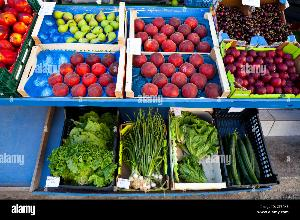cucumber: (219, 115, 273, 190)
peach: (30, 50, 124, 100), (224, 45, 300, 99), (132, 53, 222, 97), (0, 0, 42, 72), (134, 14, 214, 51)
pear: (42, 12, 125, 43)
